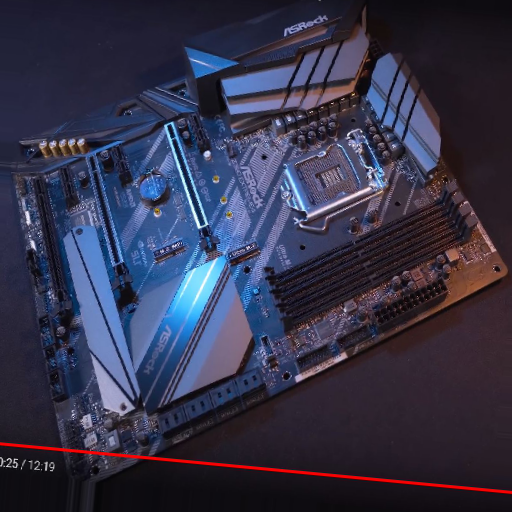CPU: (279, 136, 386, 211)
GPU: (161, 121, 220, 253), (86, 154, 134, 292), (32, 174, 76, 317)
MOTHERBOARD: (6, 10, 506, 473)
RAM: (268, 183, 481, 332)
SSD: (152, 237, 186, 263), (226, 240, 259, 266)
